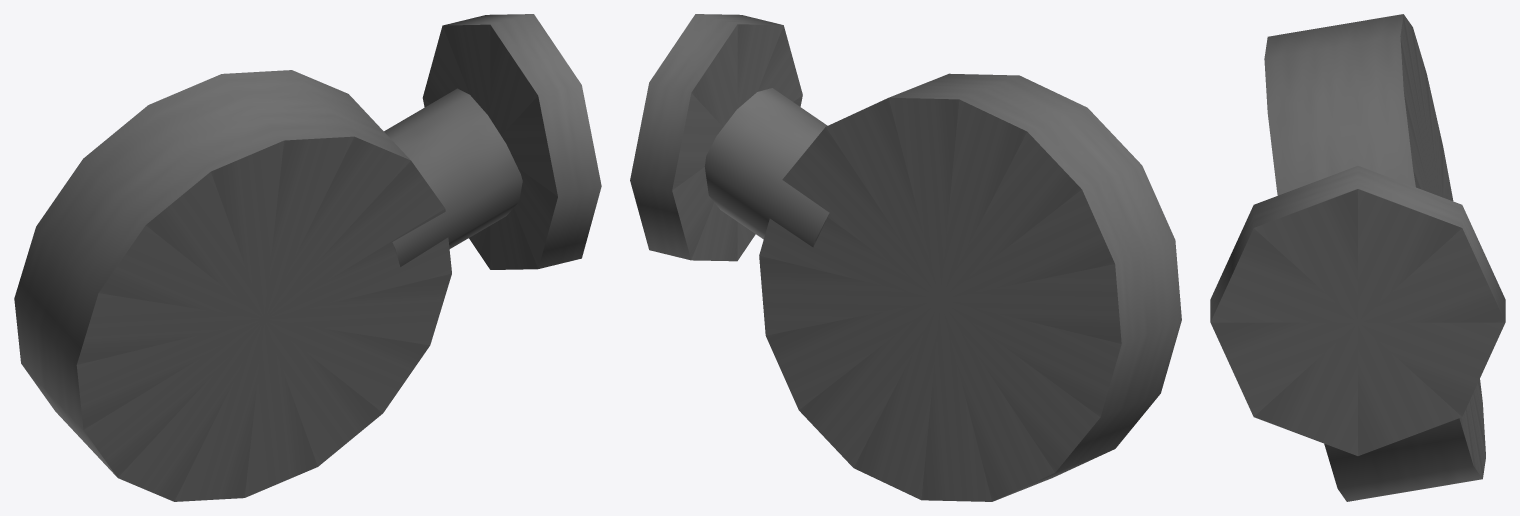
File: mastarmcurve_4x1_c3_east.obj
3 renders of one model, left to right at view 1: azimuth 30°, elevation 25°; view 2: azimuth 150°, elevation 25°; view 3: azimuth 270°, elevation 25°, orthographic. The views are drawn at different scales.
Parts seen in each view (by area): view 1: mastarm_4x1_c3_east; view 2: mastarm_4x1_c3_east; view 3: mastarm_4x1_c3_east.
Part boxes in pixels (box(x1,y1,x2,y2)): mastarm_4x1_c3_east: box(14, 14, 601, 501); mastarm_4x1_c3_east: box(630, 14, 1181, 501); mastarm_4x1_c3_east: box(1210, 14, 1505, 501).
Bounding box in the file's own units: 0.8195 × 0.6681 × 0.4.
